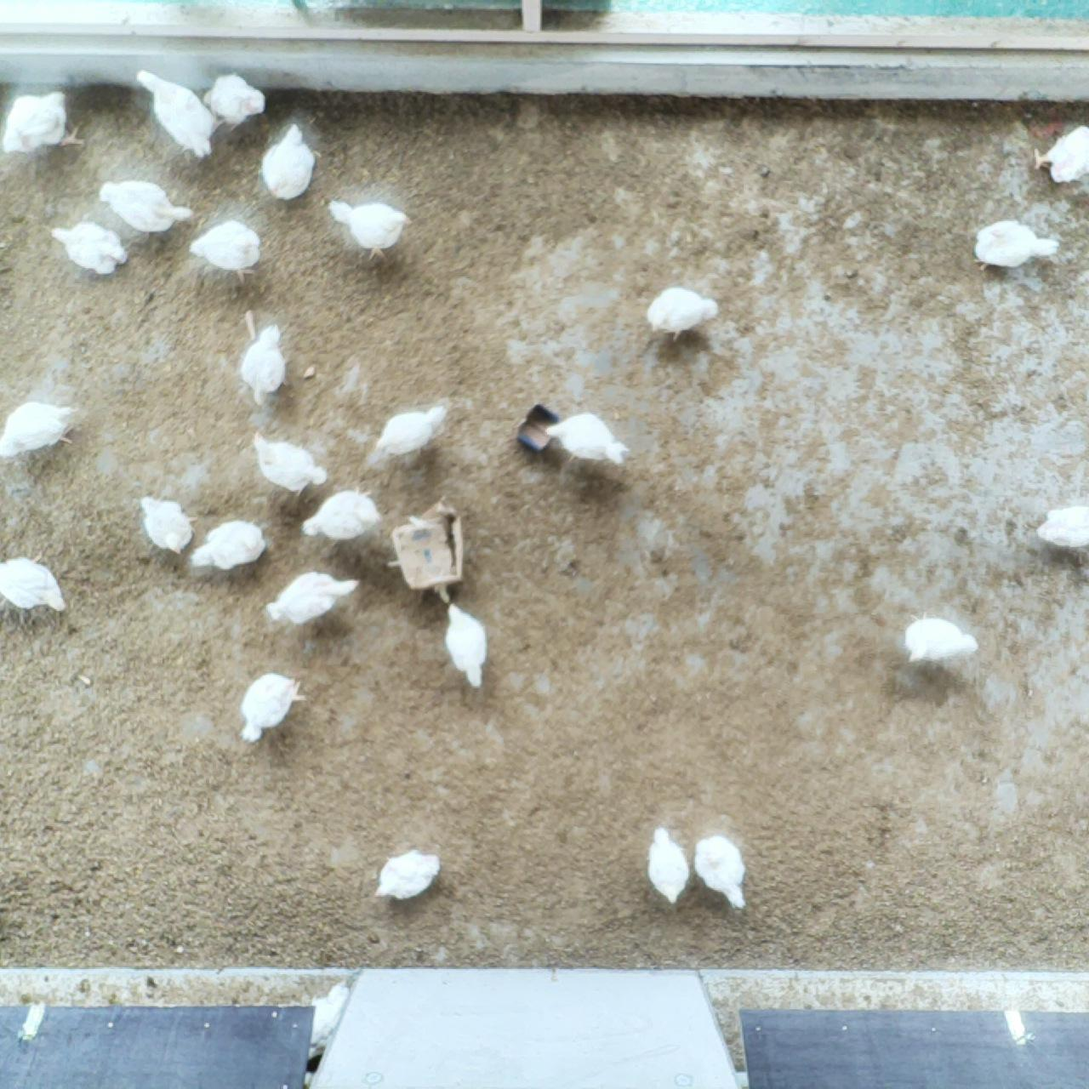chicken: (134, 66, 222, 162), (0, 88, 85, 165), (321, 195, 412, 263), (98, 175, 193, 236), (186, 216, 267, 284), (296, 485, 384, 547), (265, 570, 365, 624), (237, 671, 309, 746), (252, 427, 328, 497), (0, 401, 85, 462), (237, 323, 295, 410), (543, 409, 631, 466), (974, 218, 1060, 275), (42, 221, 129, 277), (646, 282, 722, 345), (693, 834, 753, 913), (260, 121, 316, 203), (0, 550, 71, 614), (373, 403, 454, 458), (376, 845, 449, 905), (136, 490, 199, 559), (904, 610, 979, 667), (644, 823, 694, 904), (194, 518, 266, 573), (446, 600, 489, 692), (199, 72, 265, 131), (1033, 123, 1089, 187), (1034, 500, 1089, 551)
